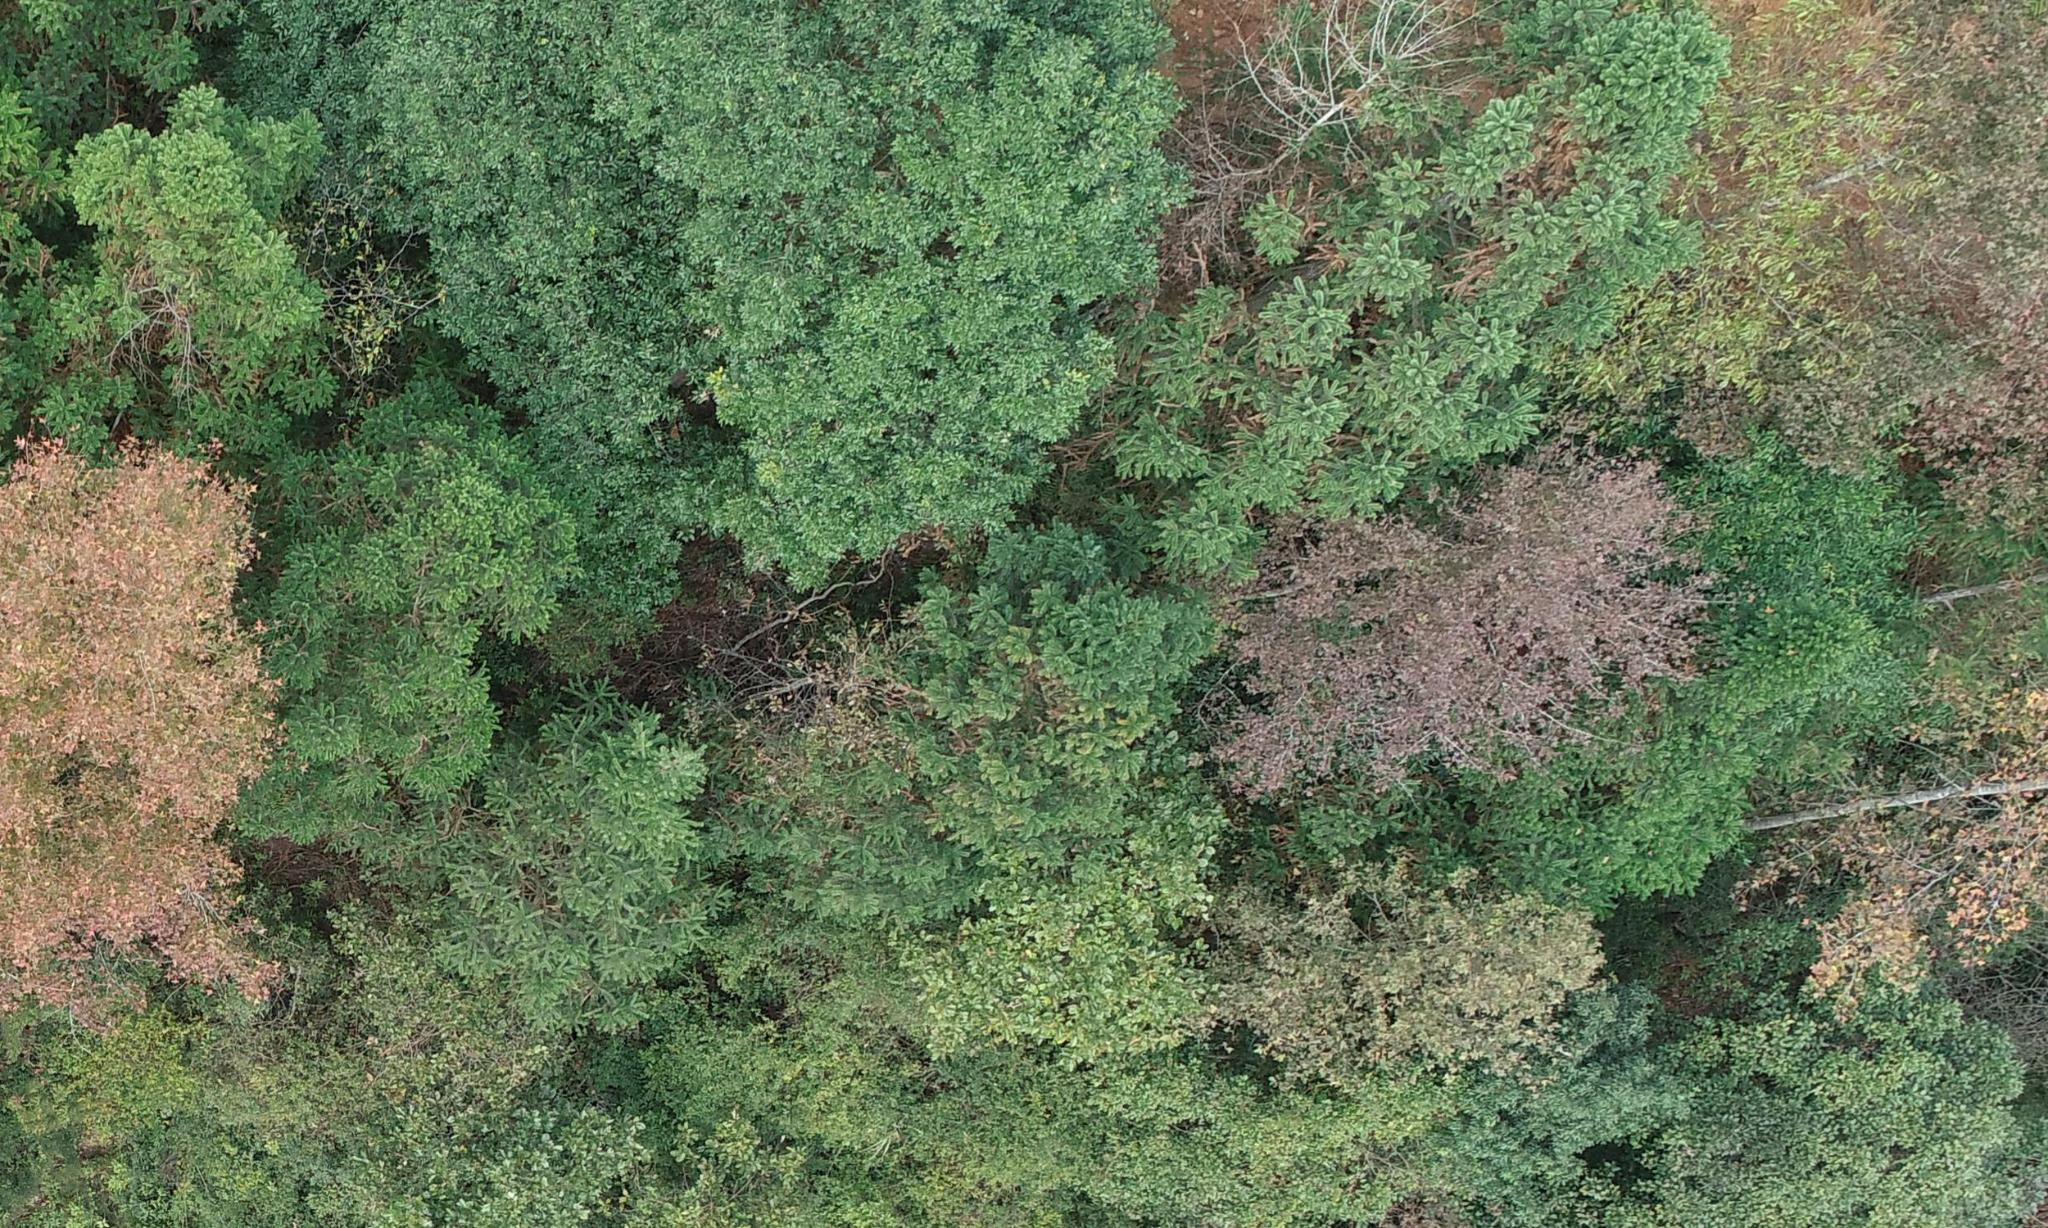heavy: (4, 409, 306, 1044), (1218, 460, 1744, 801)
